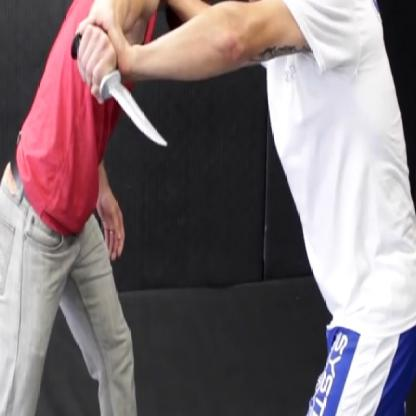knife: (65, 22, 172, 156)
